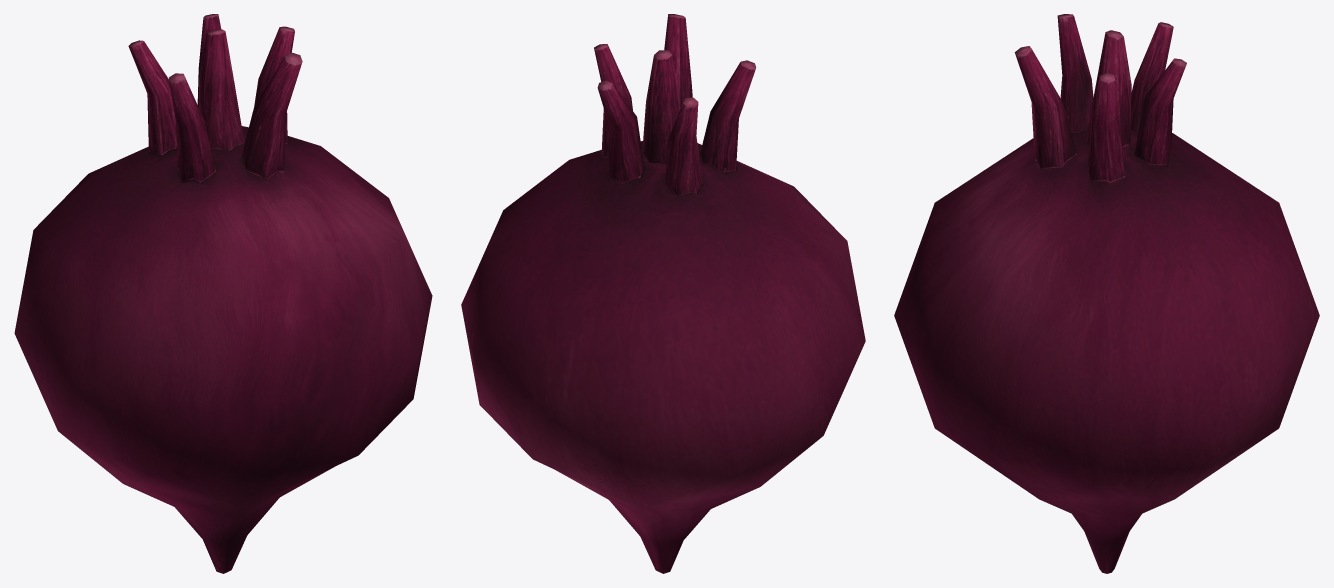
The model's file is Beet01.fbx.
3 renders of one model, left to right at view 1: azimuth 30°, elevation 25°; view 2: azimuth 150°, elevation 25°; view 3: azimuth 270°, elevation 25°, orthographic. The views are drawn at different scales.
Visible parts, largest first — view 1: Beet01_LOD0; view 2: Beet01_LOD0; view 3: Beet01_LOD0.
Part boxes in pixels (x1=…): Beet01_LOD0: x1=14, y1=14, x2=432, y2=573; Beet01_LOD0: x1=461, y1=14, x2=865, y2=573; Beet01_LOD0: x1=894, y1=14, x2=1319, y2=573.
Size of what is drawn, in the model's own units: 0.1698 by 0.2497 by 0.1785.
